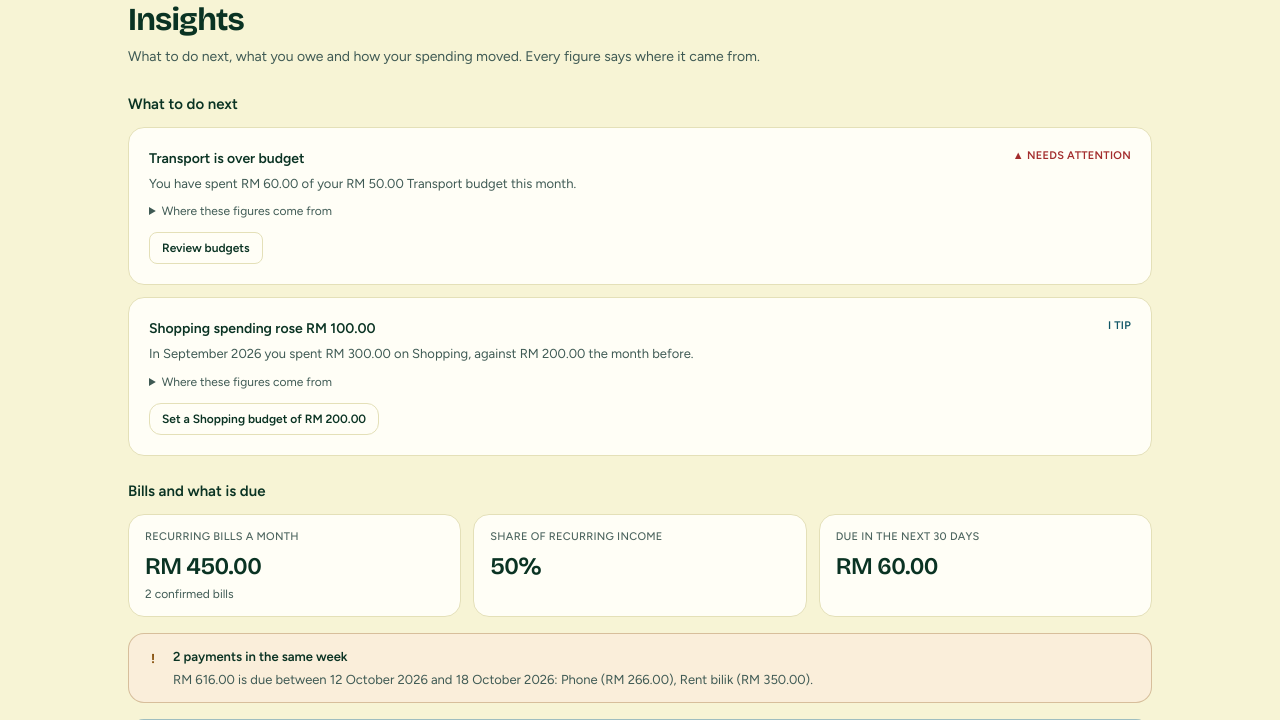
Test case: InsightsScreen › a proposed budget is saved only after the person confirms
Click the button "Set a Shopping budget of RM 200.00" at (264, 418), box [149,402,379,434]
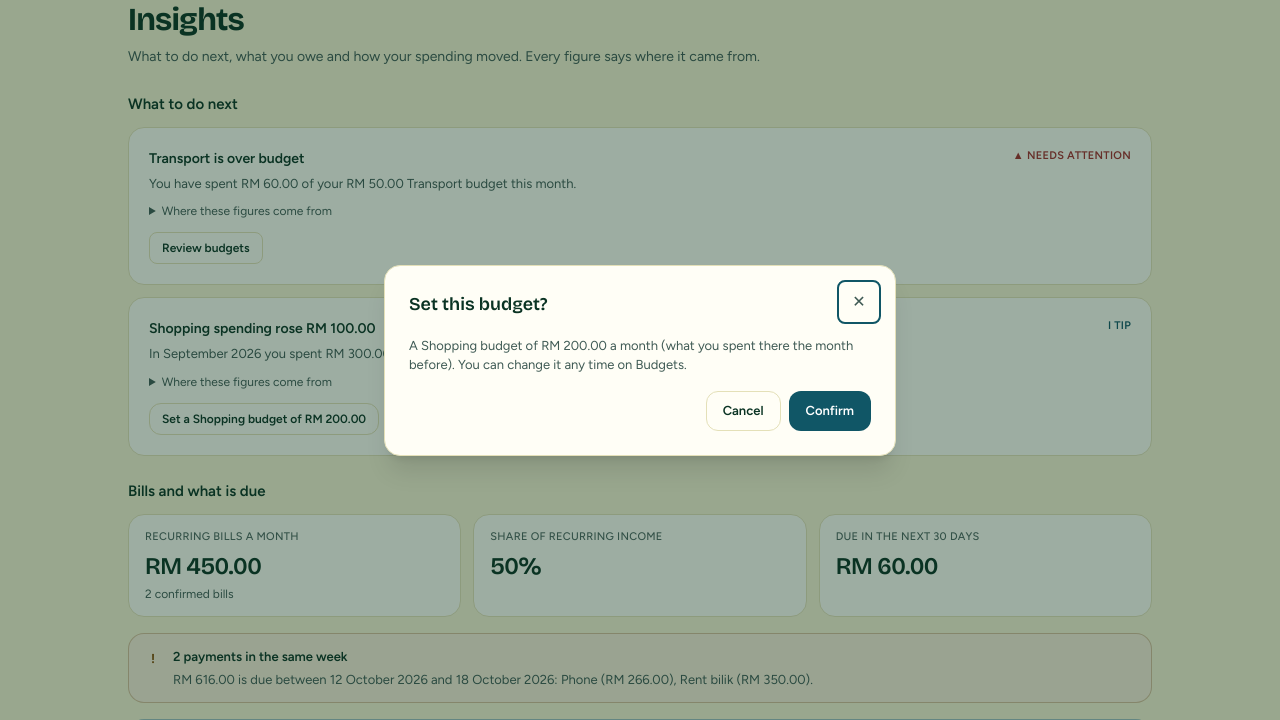
Click the button "Confirm" at (830, 410), box [788,390,871,430]
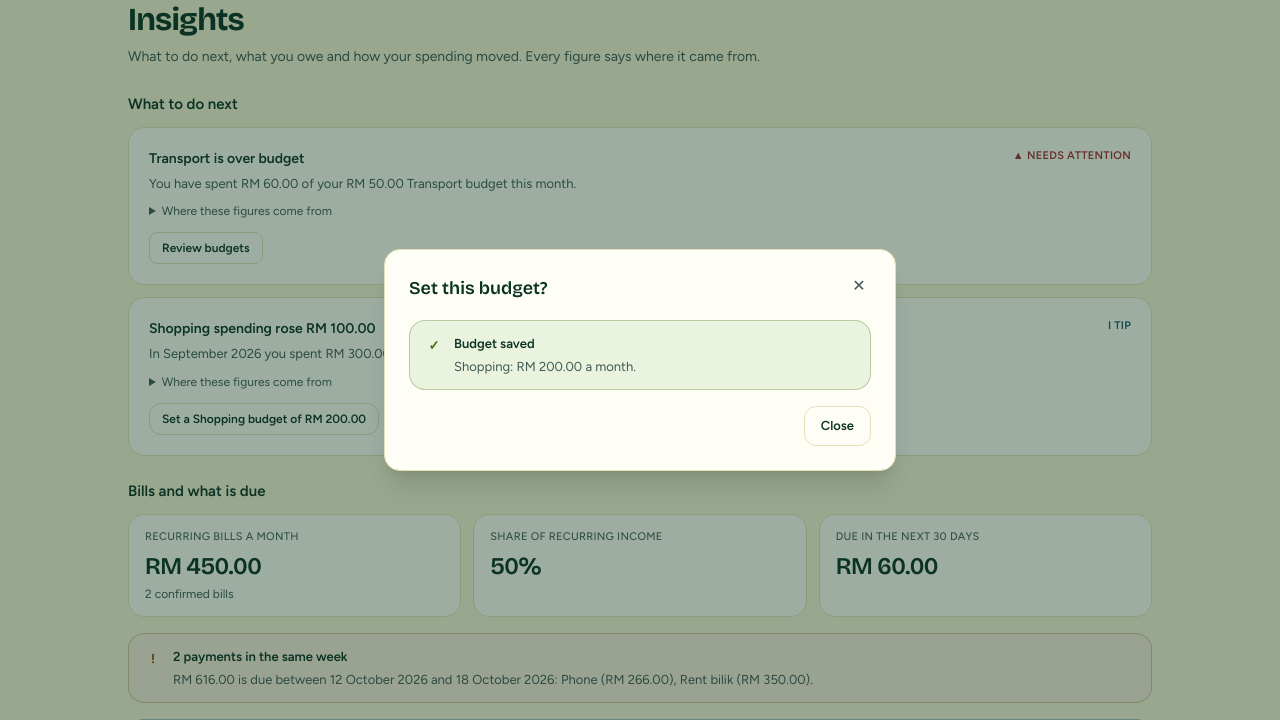
Now the text "Budget saved" is shown, box [454,336,535,351]
